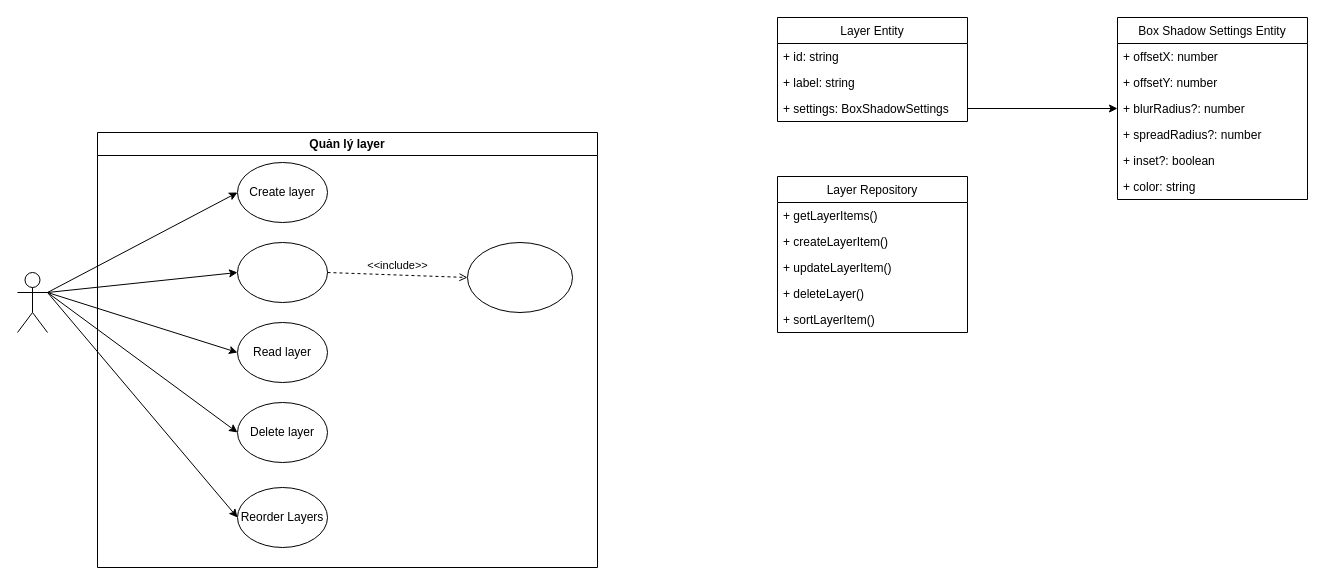
Image size: 1325x585. Some labels were removed from this diagram. The shapes that lost their labels are listed below. From the top down, each one's centre as x and y in pixels, then its label:
[282,272]: Update layer
[519,277]: Update Box Shadow Settings
[32,302]: User
